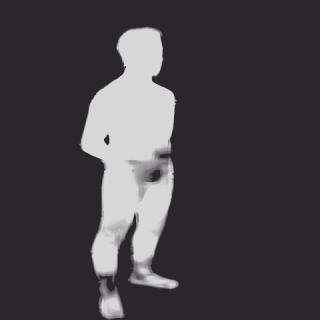Gun: (148, 152, 172, 184)
